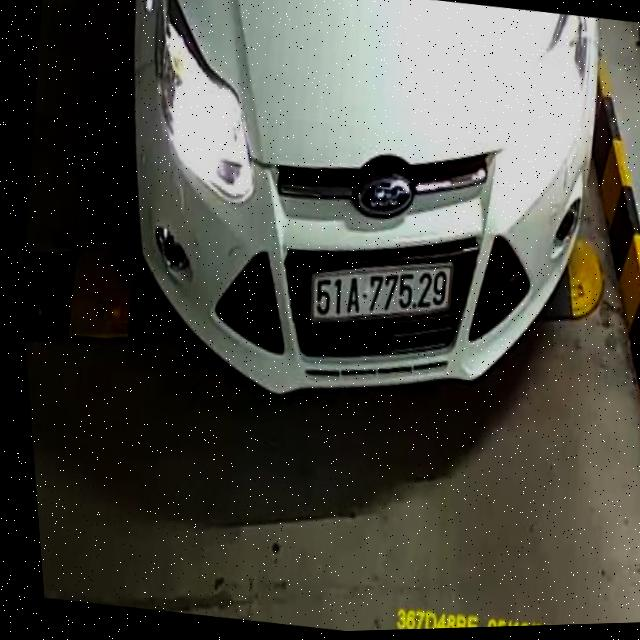car: (69, 0, 640, 447)
plate: (312, 253, 455, 332)
